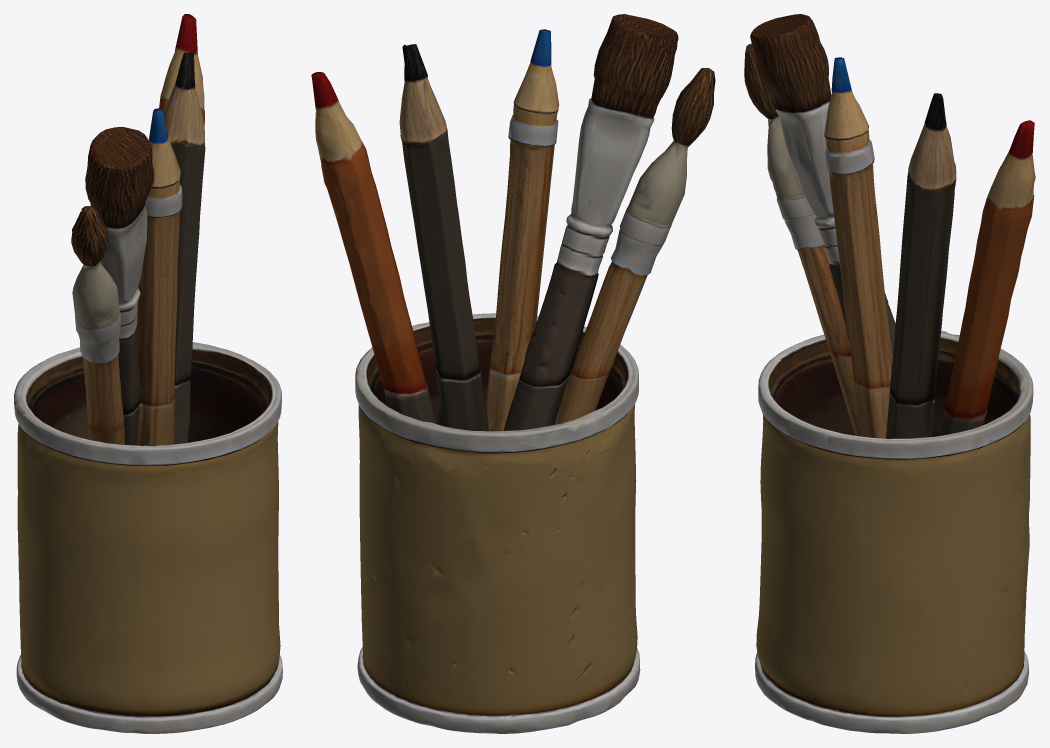
Rendered from theme-craft-pencil-cup-v05.glb.
The picture shows the model from 3 angles, left to right: view 1: azimuth 30°, elevation 25°; view 2: azimuth 150°, elevation 25°; view 3: azimuth 270°, elevation 25°; orthographic projection. The views are drawn at different scales.
Visible parts, largest first — view 1: tripo_node_02cdf2e5-2ea2-45b1-8c48-d3e04cf866f6; view 2: tripo_node_02cdf2e5-2ea2-45b1-8c48-d3e04cf866f6; view 3: tripo_node_02cdf2e5-2ea2-45b1-8c48-d3e04cf866f6.
Part boxes in pixels (x1,y1,x2,y2): tripo_node_02cdf2e5-2ea2-45b1-8c48-d3e04cf866f6: (14,14,282,733); tripo_node_02cdf2e5-2ea2-45b1-8c48-d3e04cf866f6: (311,14,715,733); tripo_node_02cdf2e5-2ea2-45b1-8c48-d3e04cf866f6: (744,14,1035,733).
Size of the model in its own units: 0.0792 by 0.18 by 0.0767.
Materials: 1 (1 with a texture image).
